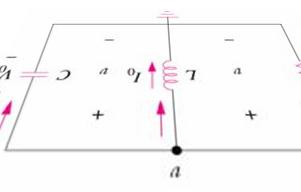inductor: (155, 50, 183, 97)
